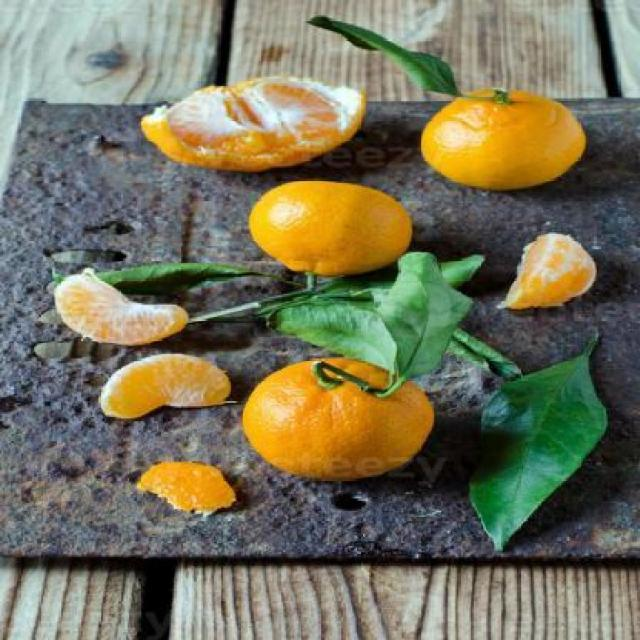Jeruk Sudah Matang: (247, 354, 436, 480), (421, 90, 581, 192), (254, 178, 412, 276)
